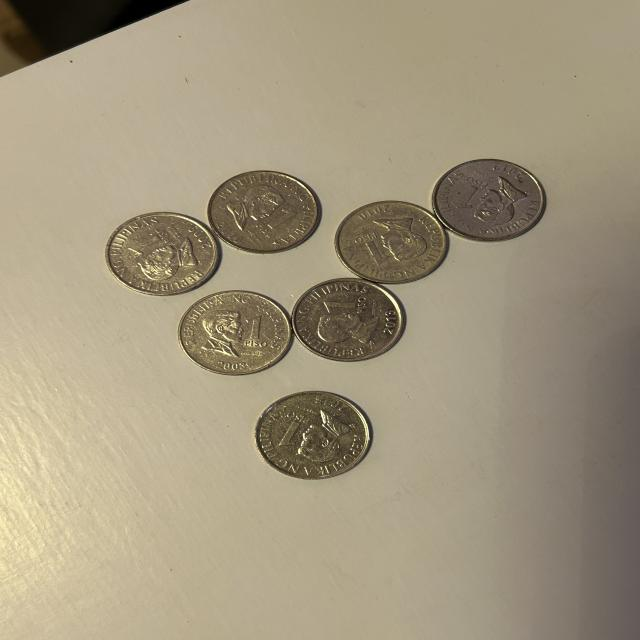1_Old_Front: (272, 409, 315, 453), (126, 228, 184, 258), (250, 204, 298, 240), (350, 231, 393, 271), (240, 309, 276, 355), (450, 173, 488, 214), (320, 292, 374, 320)
